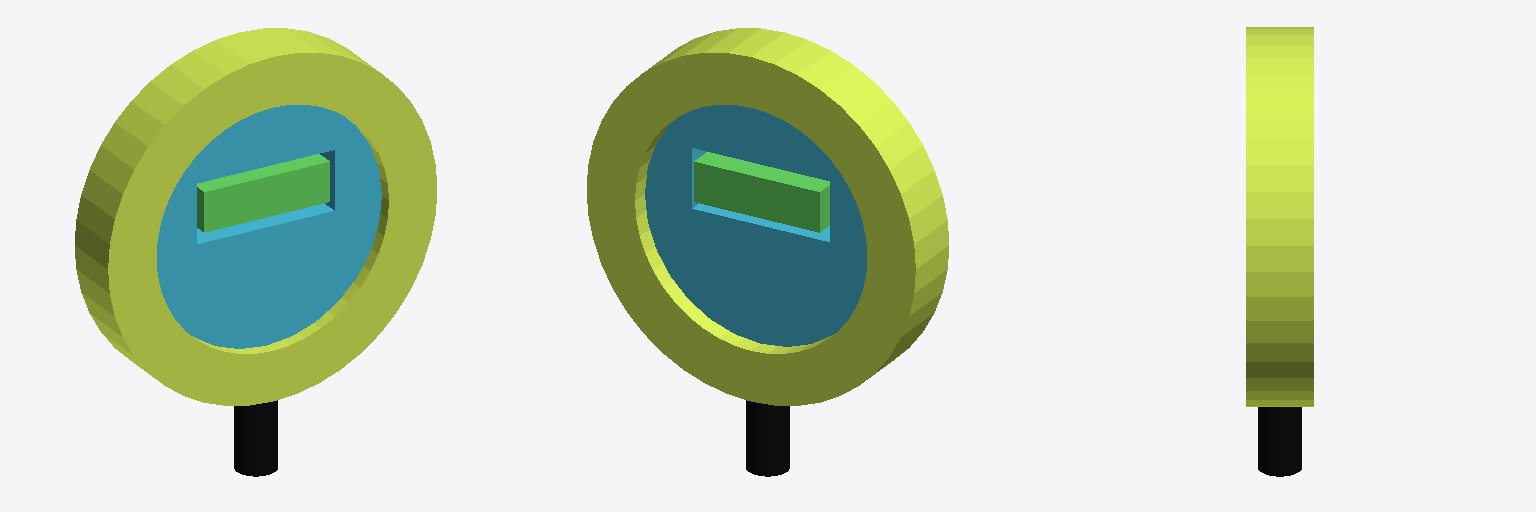
The model's file is meter2.obj.
3 renders of one model, left to right at view 1: azimuth 30°, elevation 25°; view 2: azimuth 150°, elevation 25°; view 3: azimuth 270°, elevation 25°, orthographic.
Parts seen in each view (by area): view 1: Tube001, Circle001, Box001, Cylinder001; view 2: Tube001, Circle001, Box001, Cylinder001; view 3: Tube001, Cylinder001.
Boxes of the visible parts, <box> form: Tube001: <box>75,28,436,405</box>; Circle001: <box>157,105,381,348</box>; Box001: <box>197,154,329,232</box>; Cylinder001: <box>234,400,277,476</box>; Tube001: <box>587,28,948,405</box>; Circle001: <box>645,105,866,346</box>; Box001: <box>694,152,829,232</box>; Cylinder001: <box>746,400,789,476</box>; Tube001: <box>1246,27,1313,406</box>; Cylinder001: <box>1258,407,1301,476</box>.
Bounding box in the file's own units: 170 × 208 × 30.